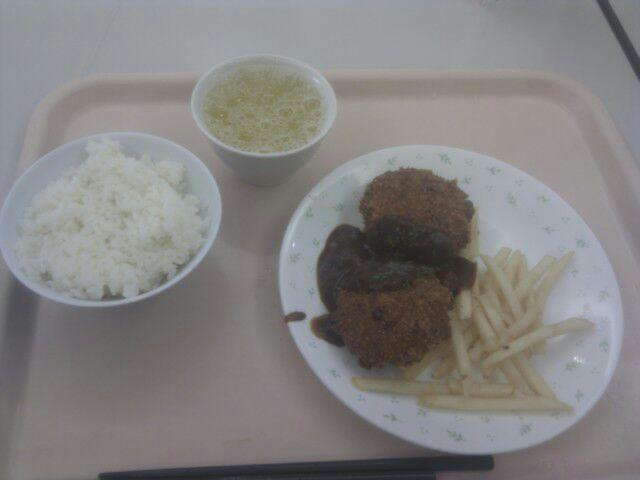plate: (0, 132, 221, 307)
rice: (16, 140, 208, 299)
